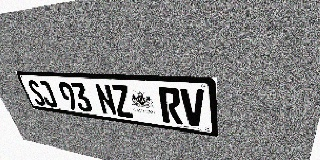3: (70, 82, 93, 113)
9: (57, 81, 80, 111)
J: (36, 80, 58, 108)
N: (94, 83, 118, 116)
R: (158, 87, 183, 125)
S: (26, 79, 47, 106)
V: (180, 88, 206, 128)
Z: (110, 84, 134, 118)
